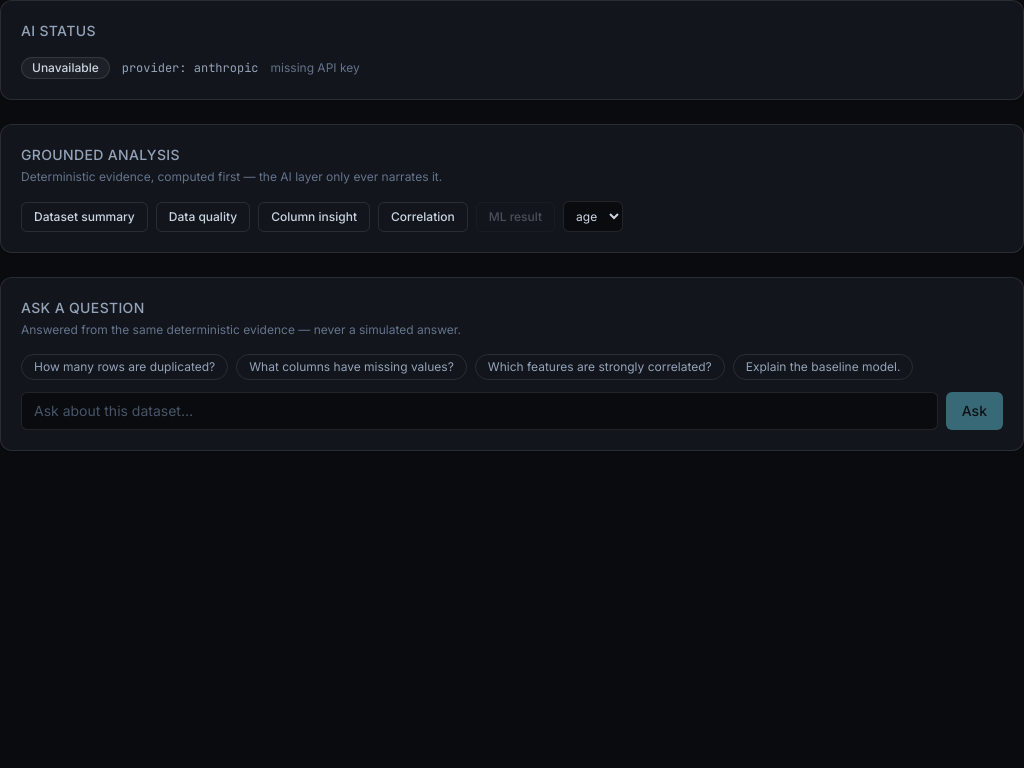
Test case: AiPage › shows the AI-unavailable notice while still rendering real computed data
Expected: the text "Unavailable" is shown, [21,57,110,79]
Click the button "Dataset summary". click: (84, 216)
box: [21,202,148,232]
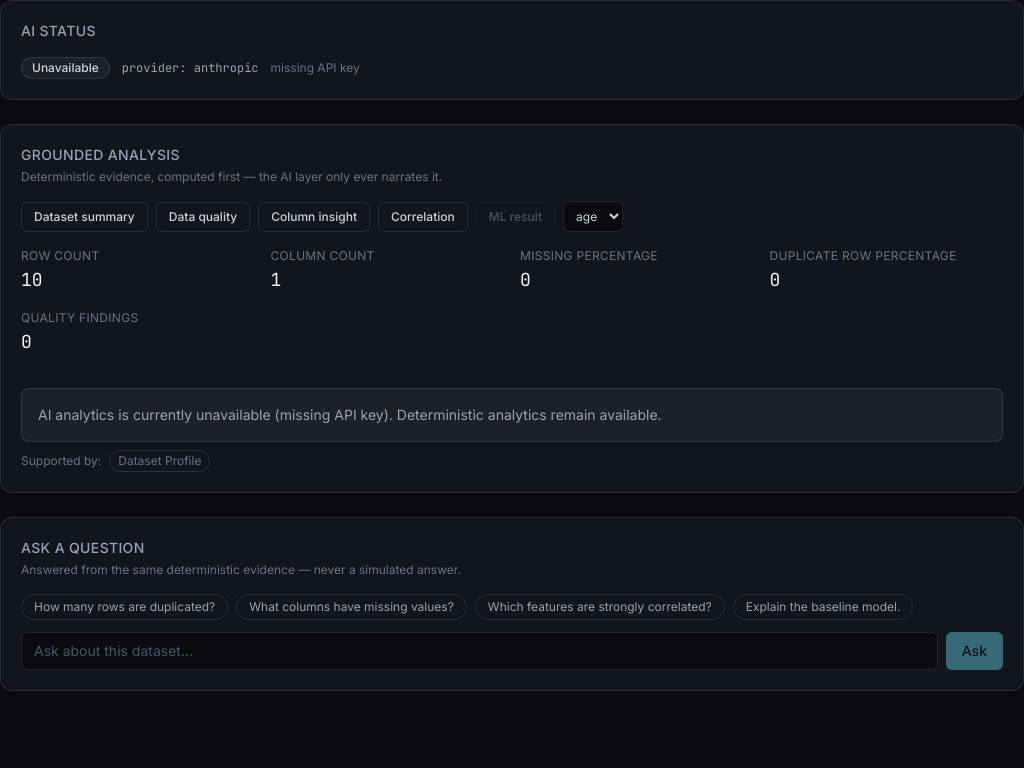
Now the text "AI analytics is currently unavailable" is shown, box [38,406,271,423]
Now the text "deterministic analytics remain available" is shown, box [389,406,662,423]
